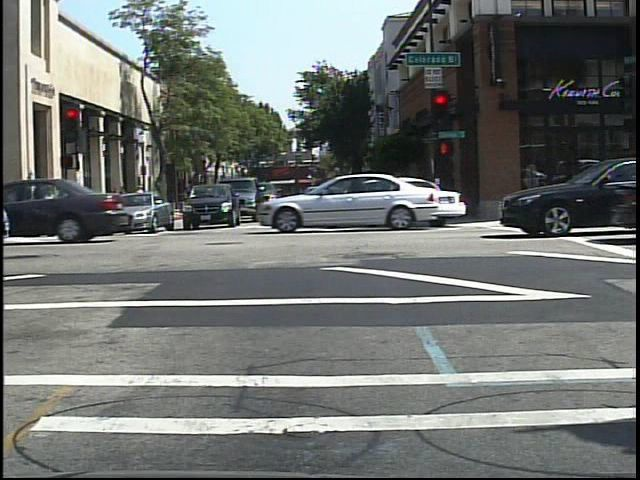person: (131, 181, 150, 220), (136, 181, 151, 216)
